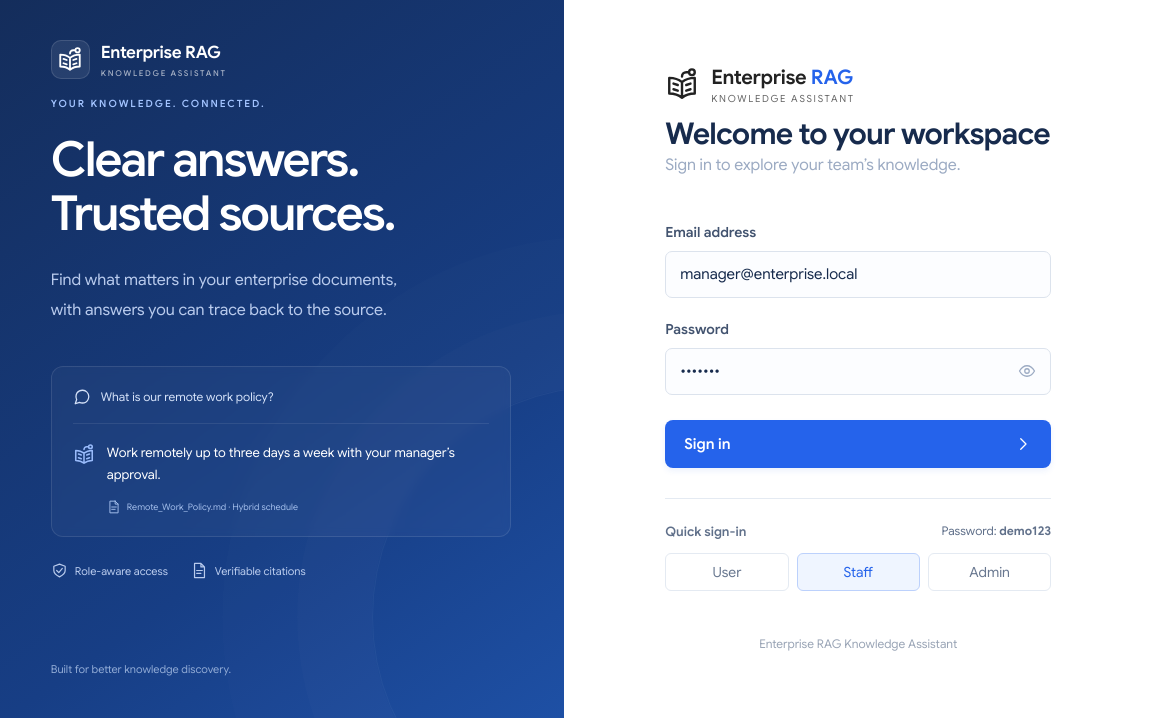
Test: Sprint 4 frontend workflows › protects routes and clears only the active session on a protected 401
Expected: the button "Sign in" is shown, 665,420 -> 1051,468
Type "incorrect" into the password field labelled "Password" at (858, 371), box 665,348 -> 1051,395
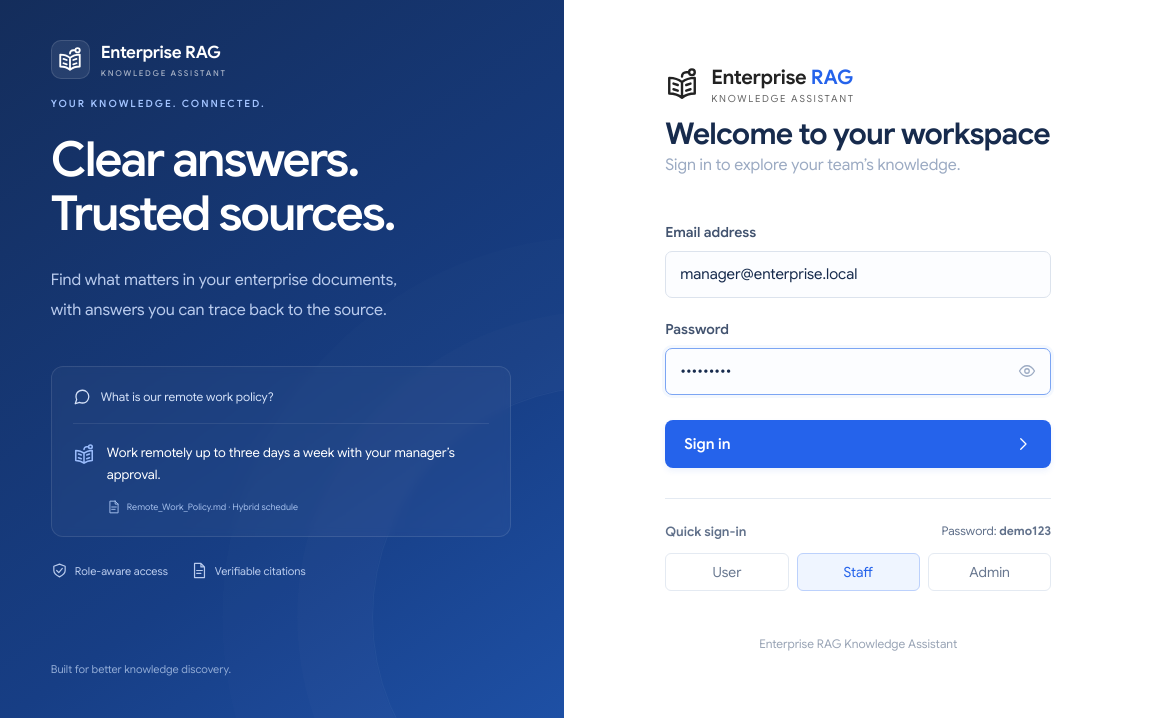
Click the button "Sign in" at (707, 444), box 665,420 -> 1051,468
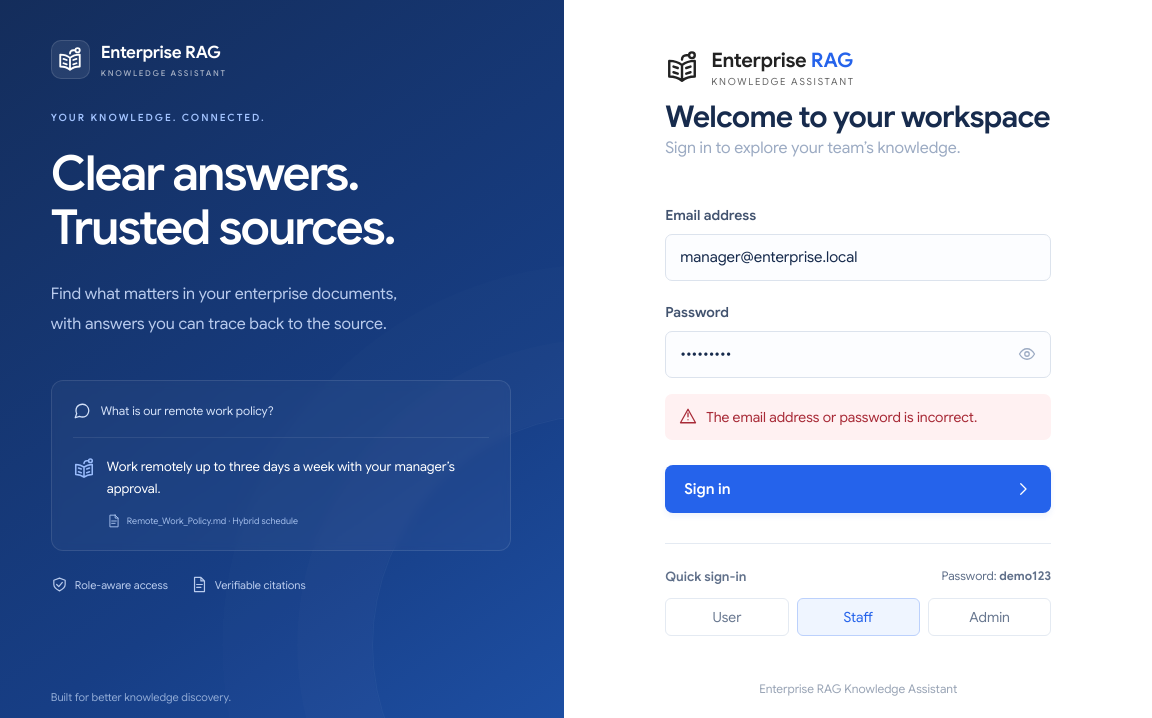
Result: the message shows "incorrect" at 706,408 -> 977,426
Type "demo123" into the password field labelled "Password" at (858, 354), box 665,331 -> 1051,378
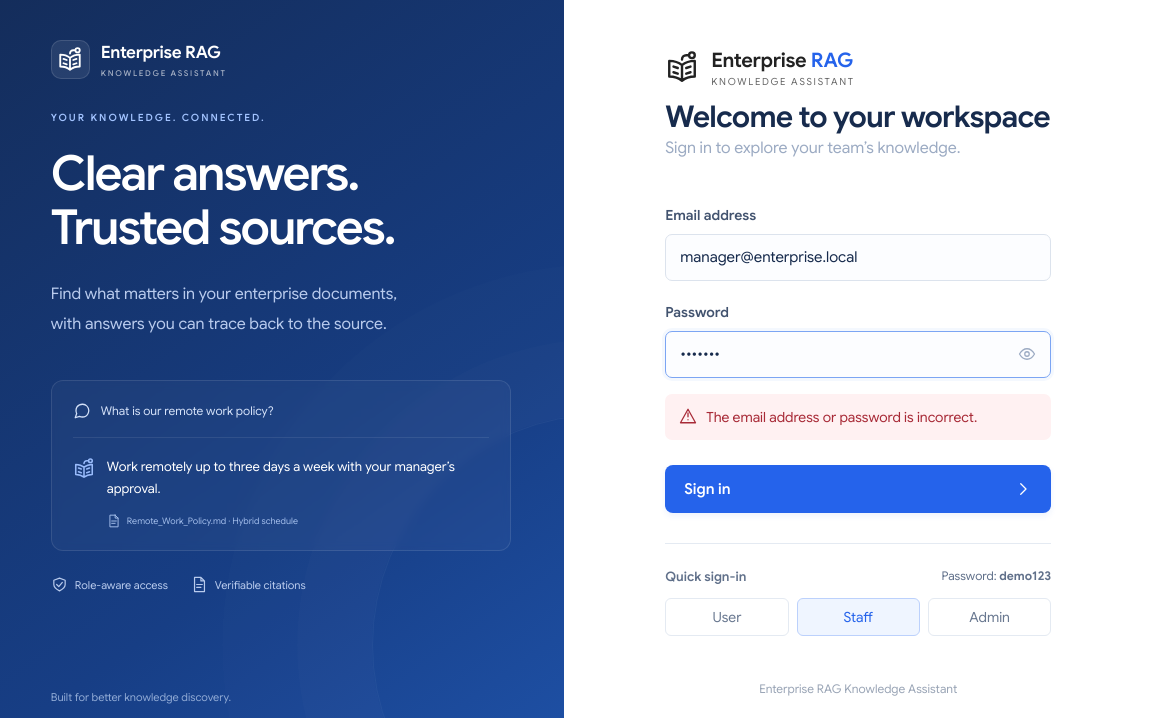
Click the button "Sign in" at (707, 489), box 665,465 -> 1051,513
(page scrolled)
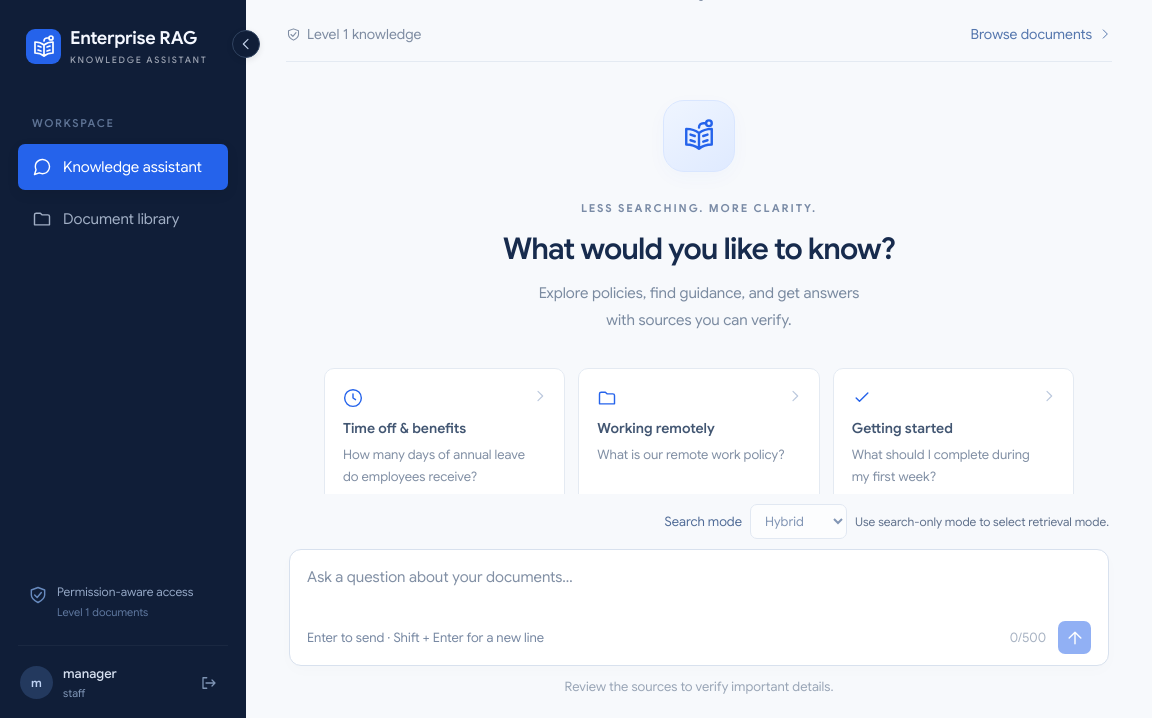
Type "annual leave" into the text box labelled "Ask a question about your documents" at (699, 590), box 307,565 -> 1091,616
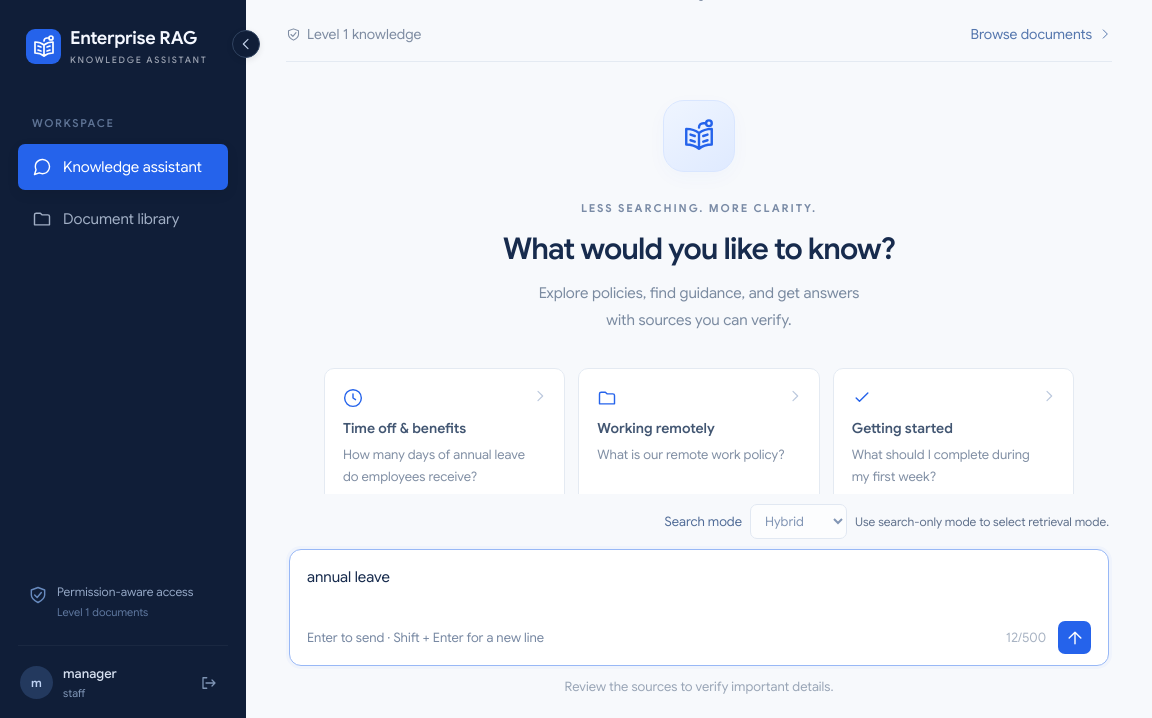
Click the button named "Send question" at (1074, 638), box 1058,621 -> 1091,654
(page scrolled)
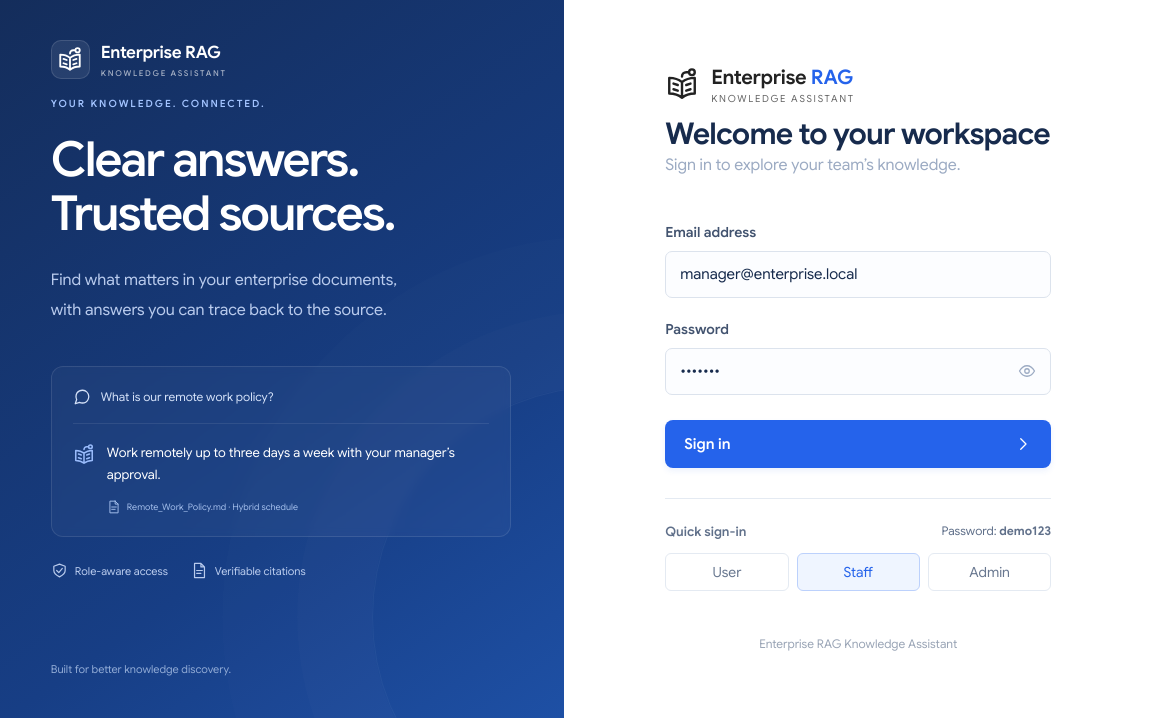
Result: the button "Sign in" is shown at 665,420 -> 1051,468
